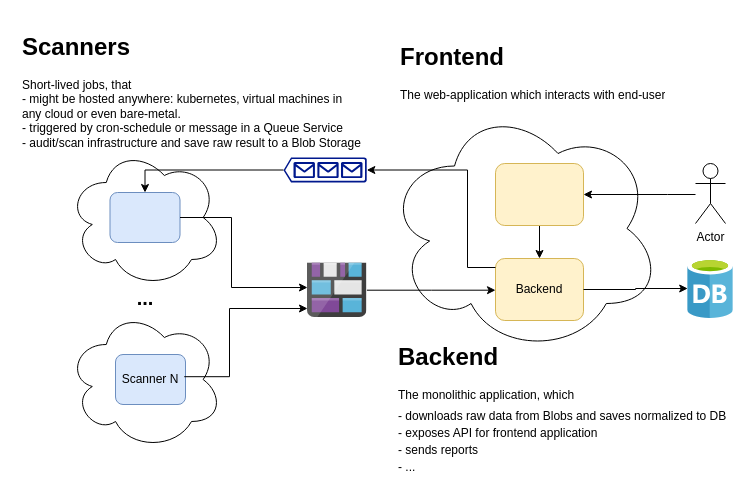
Image size: 750x490. Some labels were removed from this diagram. The centre of each missing label's shape, as x and y in pixels:
Frontend: [539,194]
Scanner 1: [144,217]
